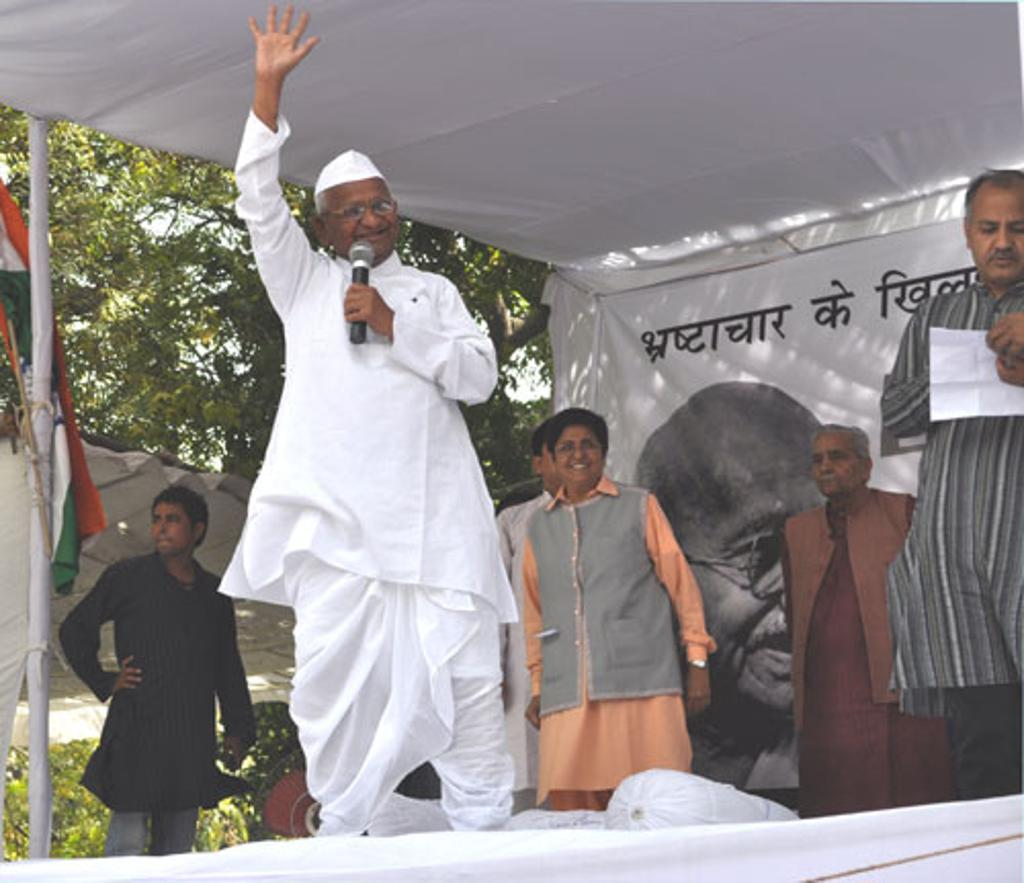face: (325, 179, 395, 259), (970, 184, 1024, 279), (813, 434, 858, 494), (554, 429, 602, 483), (152, 498, 193, 549)
